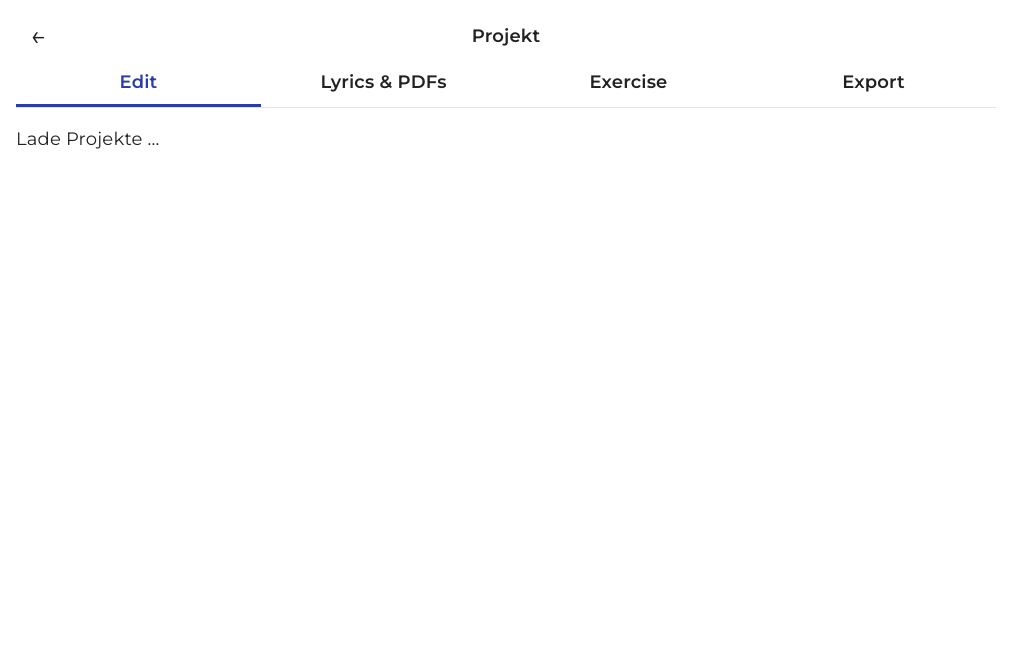
Scenario: Audiobook › öffnet den Export-Tab und bietet den Projektimport in der Übersicht an
The width and height of the screenshot is (1013, 645).
Click the link "Export". click: (873, 82)
box: left=842, top=71, right=905, bottom=93
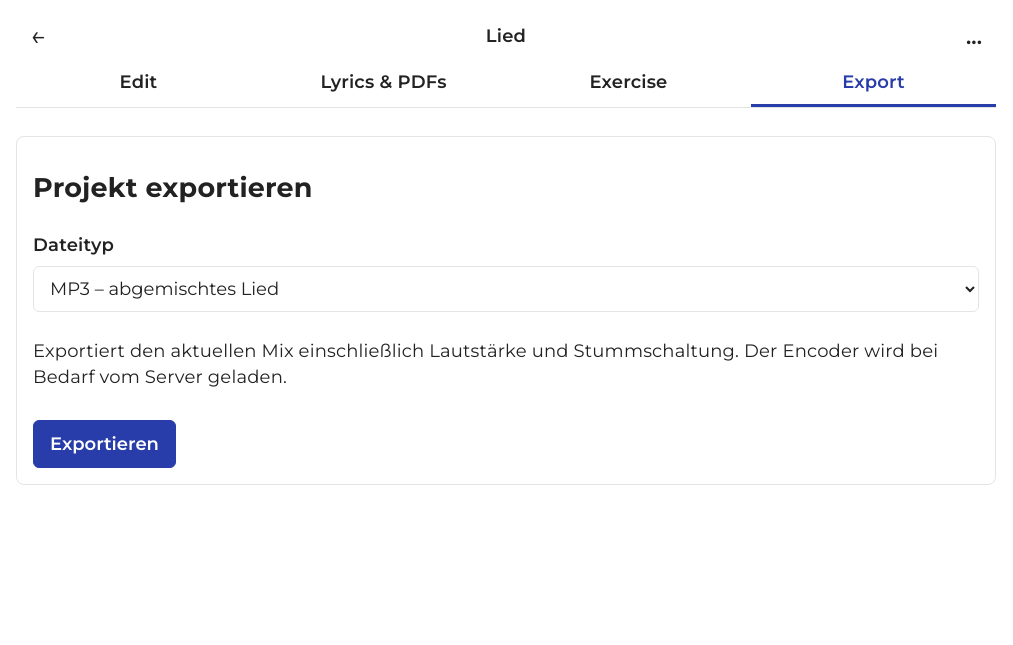
expect the dropdown labelled "Dateityp" shows "MP3 – abgemischtes Lied": met
Select "Projektdatei (.vst)" in the dropdown labelled "Dateityp". click: (506, 289)
box: left=33, top=266, right=979, bottom=312
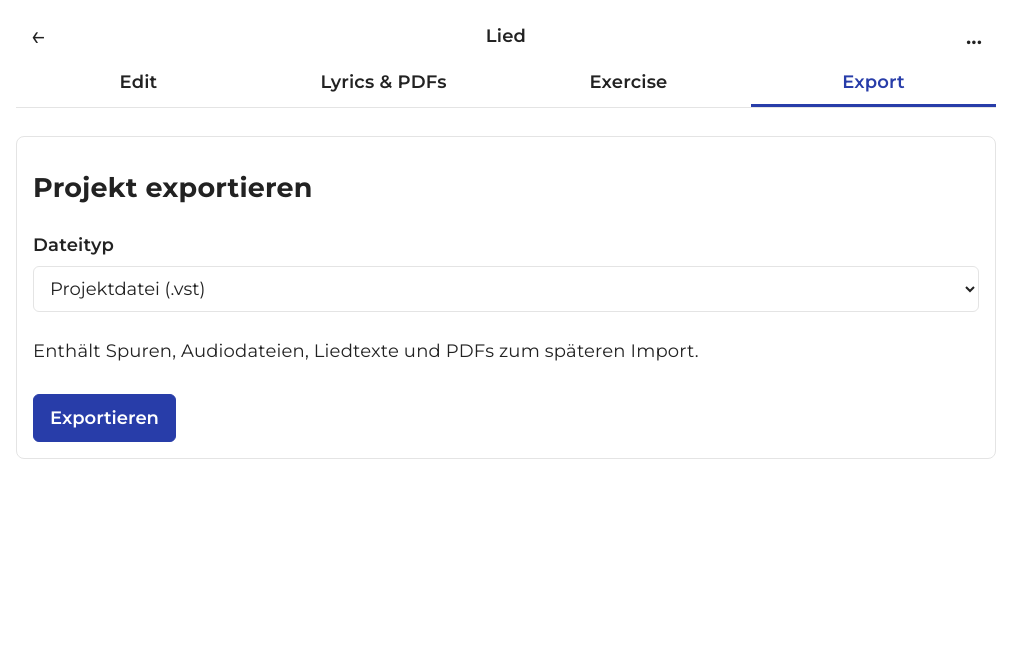
expect the text "Enthält Spuren, Audiodateien" is shown: met, box left=33, top=340, right=699, bottom=362
Click the link named "Zurück zum Audiobook". click: (38, 36)
box: left=30, top=19, right=46, bottom=52
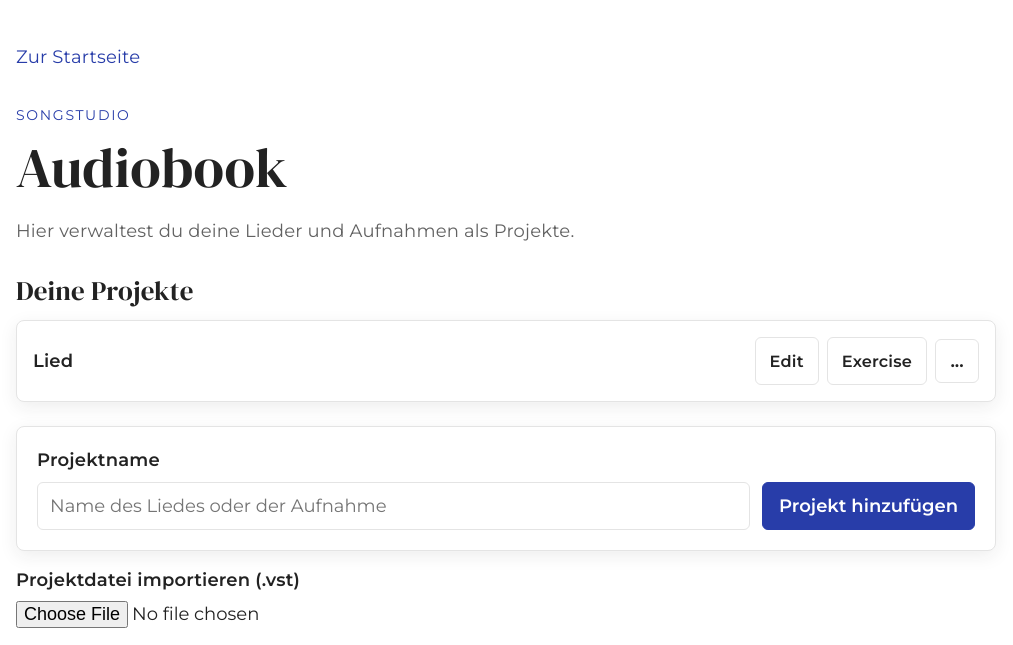
expect the file field labelled "Projektdatei importieren (.vst)" is shown: met, box left=16, top=601, right=996, bottom=628
